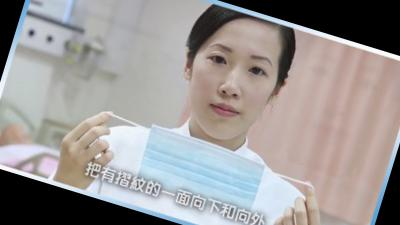without_mask: (173, 32, 285, 151)
